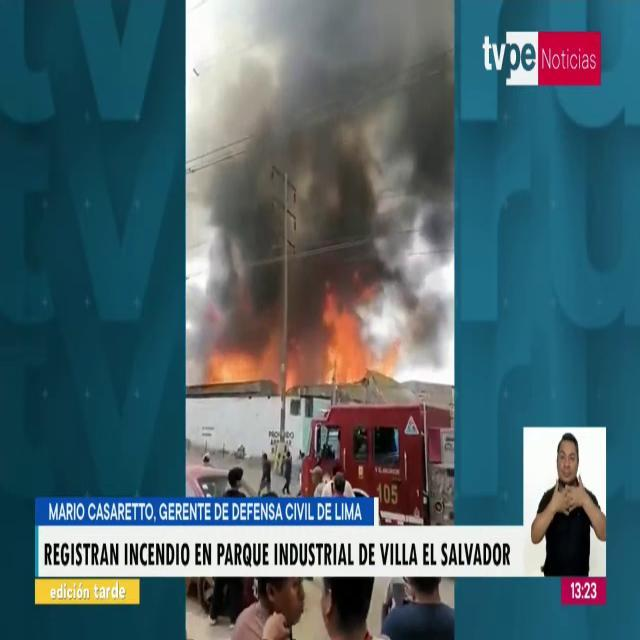Fire: (198, 297, 398, 399)
Smoke: (188, 1, 454, 338)
